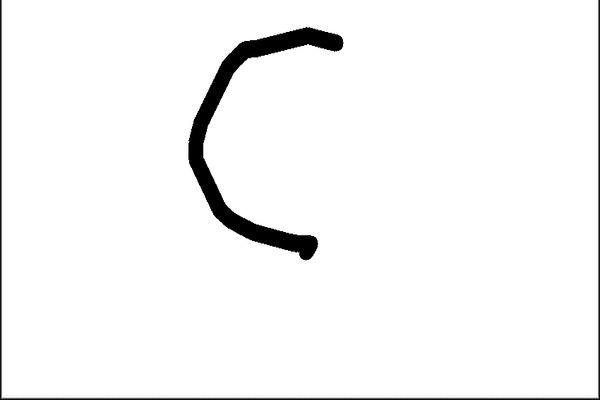C: (184, 20, 346, 262)
